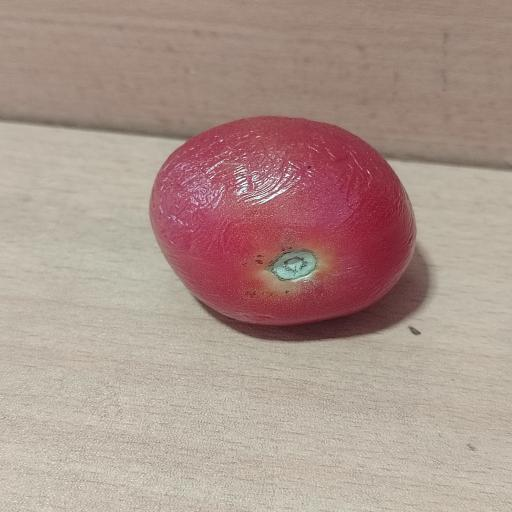spoiled: (150, 117, 415, 325)
